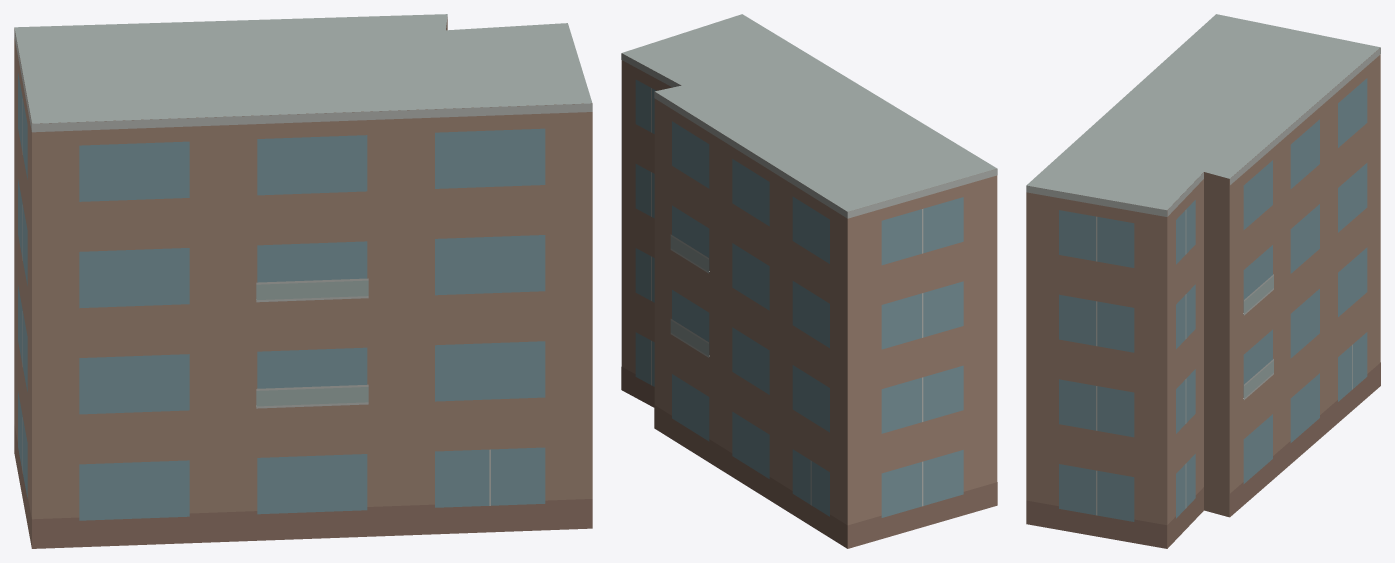
The model's file is survey-upis-32906481.glb.
3 views of the same model, side by side, from view 1: azimuth 30°, elevation 25°; view 2: azimuth 150°, elevation 25°; view 3: azimuth 270°, elevation 25° (orthographic). The views are drawn at different scales.
Visible parts, largest first — view 1: survey-upis-32906481.tmp; view 2: survey-upis-32906481.tmp; view 3: survey-upis-32906481.tmp.
Boxes of the visible parts, x1,y1,x2,y2 form: survey-upis-32906481.tmp: [14, 14, 592, 548]; survey-upis-32906481.tmp: [621, 14, 997, 548]; survey-upis-32906481.tmp: [1026, 14, 1380, 548].
Size of the model in its own units: 15.05 by 12.1 by 11.49.
